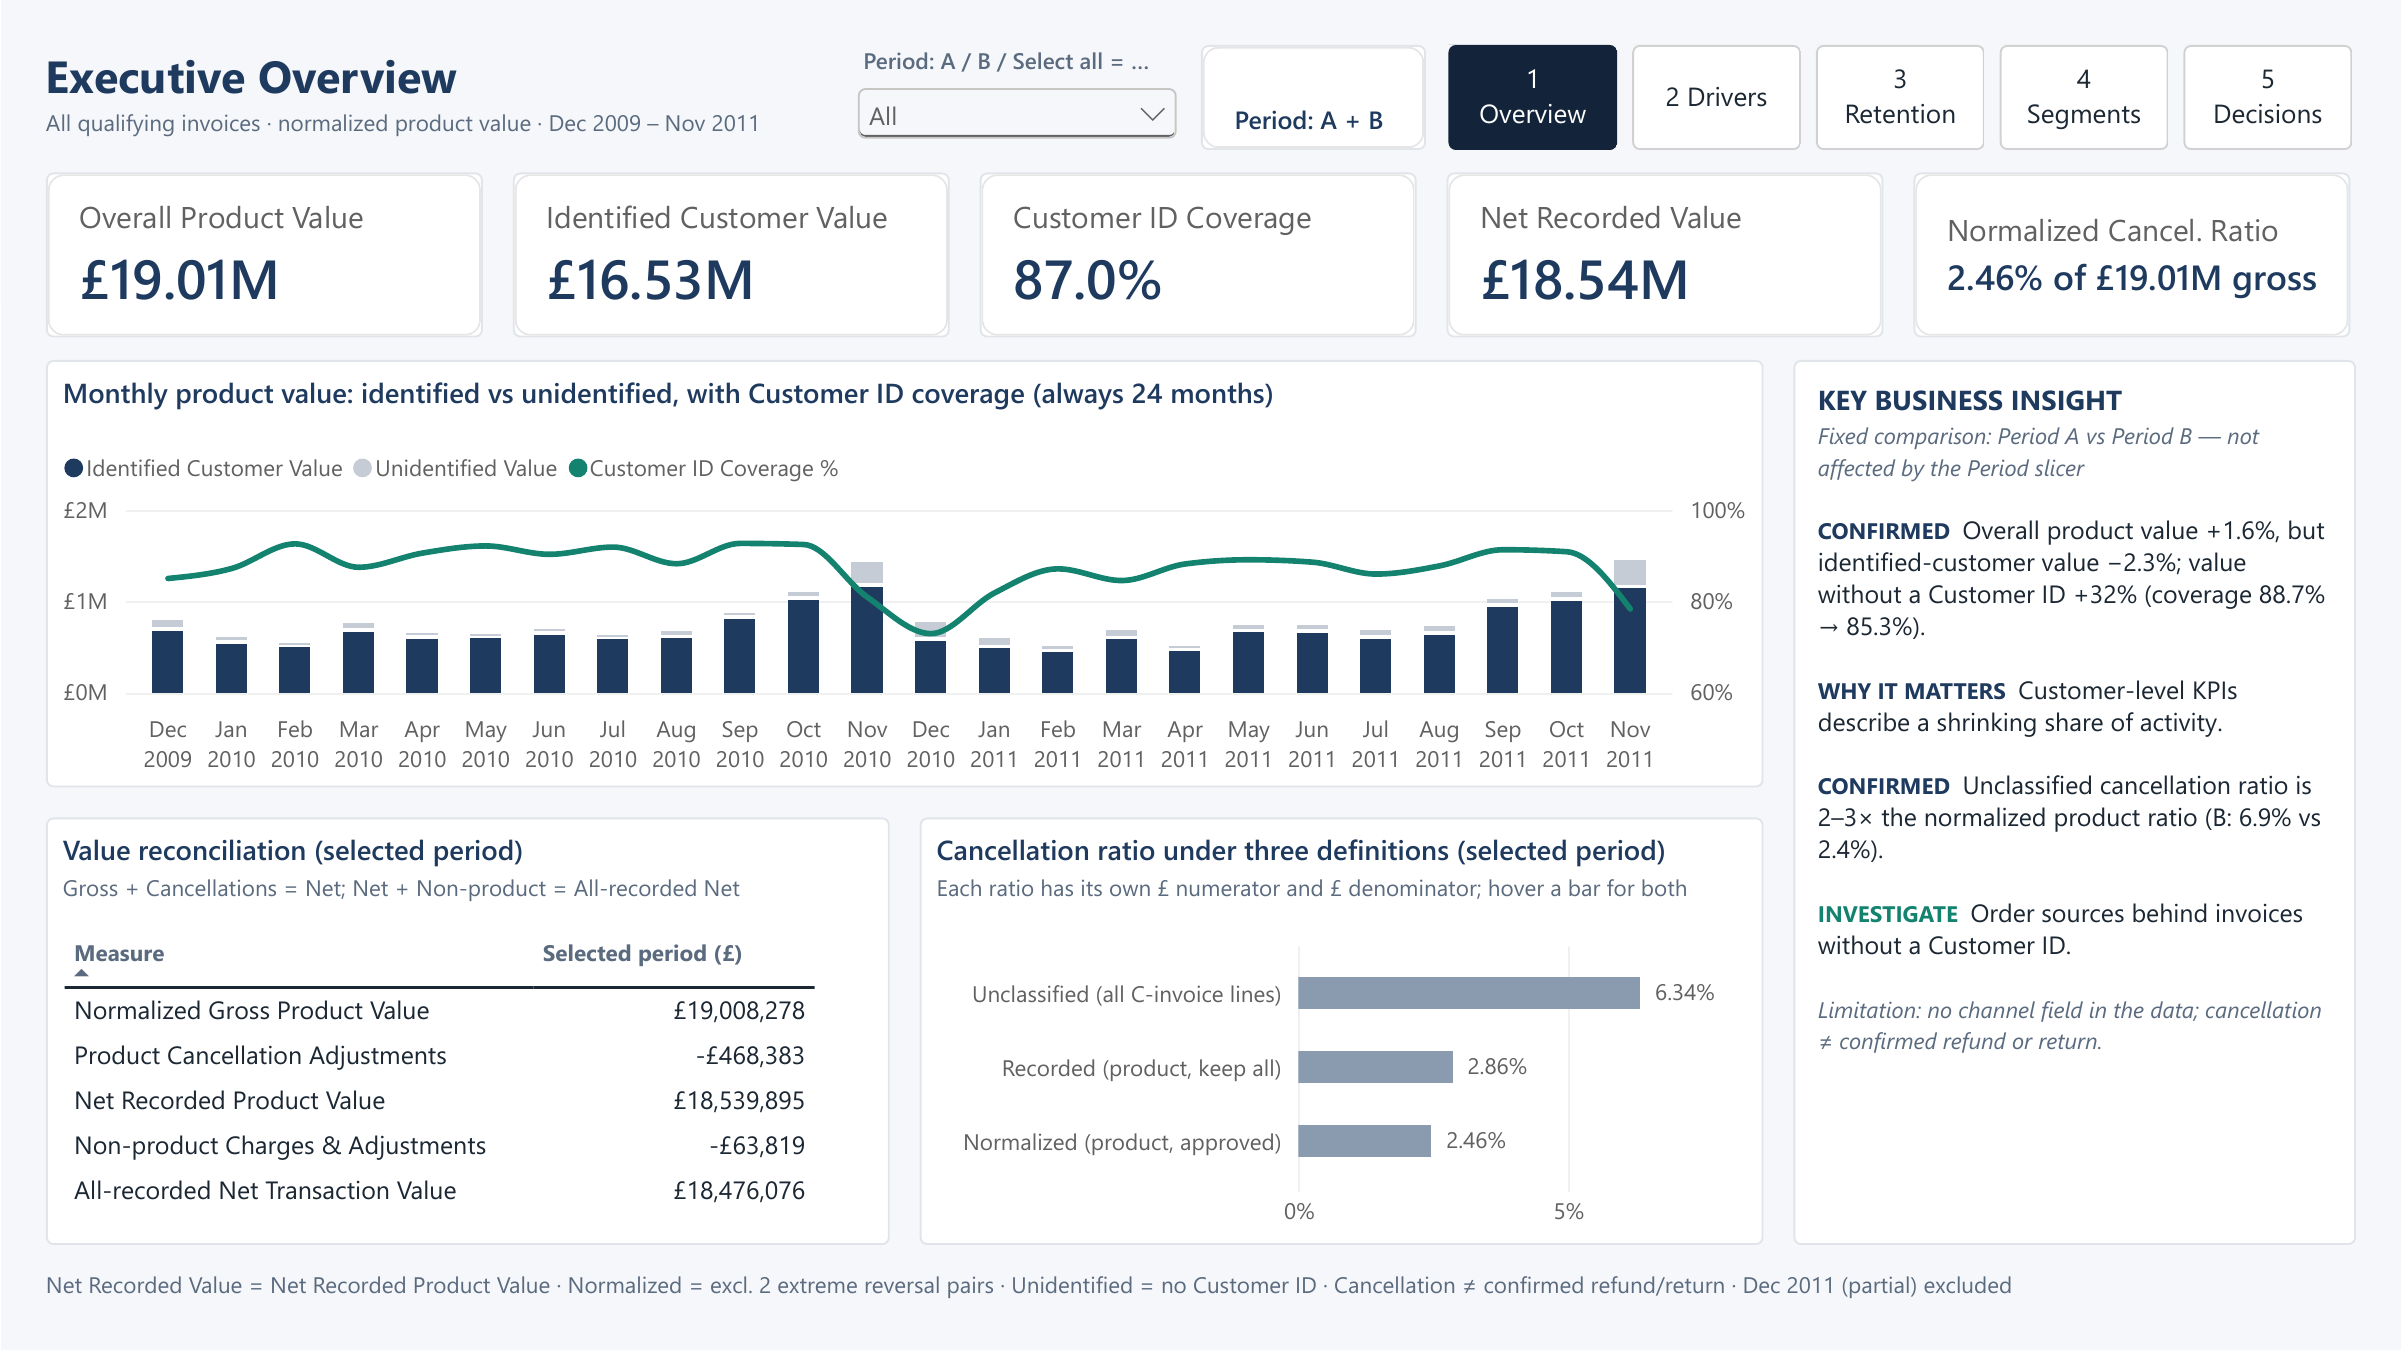

What the dashboard file says about the page in this screenshot:
{"tool":"powerbi","page":{"name":"1 Overview","canvas":[1280,720],"ordinal":0},"visuals":[{"type":"textbox","box":[24,24,420,56],"z":10},{"type":"slicer","fields":{"Values":["dim_month.period"]},"box":[452,24,180,56],"z":20},{"type":"cardVisual","fields":{"Data":["_Measures.Selected Period Label"]},"box":[640,24,120,56],"z":21},{"type":"pageNavigator","box":[772,24,484,56],"z":22},{"type":"cardVisual","fields":{"Data":["_Measures.Card Overall Product Value"]},"box":[24,92,233,88],"z":30},{"type":"cardVisual","fields":{"Data":["_Measures.Card Identified Customer Value"]},"box":[273,92,233,88],"z":31},{"type":"cardVisual","fields":{"Data":["_Measures.Customer ID Coverage %"]},"box":[522,92,233,88],"z":32},{"type":"cardVisual","fields":{"Data":["_Measures.Card Net Recorded Product Value"]},"box":[771,92,233,88],"z":33},{"type":"cardVisual","fields":{"Data":["_Measures.Card Normalized Ratio with Base"]},"box":[1020,92,233,88],"z":34},{"type":"lineStackedColumnComboChart","title":"Monthly product value: identified vs unidentified, with Customer ID coverage (always 24 months)","fields":{"Category":["dim_month.month_label"],"Y":["_Measures.Identified Customer Value","_Measures.Unidentified Value"],"Y2":["_Measures.Customer ID Coverage %"]},"box":[24,192,916,228],"z":40},{"type":"tableEx","title":"Value reconciliation (selected period)","fields":{"Values":["value_reconciliation_line.line","_Measures.Reconciliation Value"]},"box":[24,436,450,228],"z":41},{"type":"clusteredBarChart","title":"Cancellation ratio under three definitions (selected period)","fields":{"Category":["ratio_definition.definition"],"Y":["_Measures.Ratio by Definition"]},"box":[490,436,450,228],"z":42},{"type":"textbox","box":[956,192,300,472],"z":50},{"type":"textbox","box":[24,676,1232,20],"z":60}]}

Visuals, with their boxes in screenshot pixels (x1, y1, x2, y2), scaled from the page's 1280x720 canvas onto the 2401x1350 screenshot:
textbox: x1=45 y1=45 x2=833 y2=150
slicer - dim_month.period: x1=848 y1=45 x2=1185 y2=150
cardVisual - _Measures.Selected Period Label: x1=1200 y1=45 x2=1426 y2=150
pageNavigator: x1=1448 y1=45 x2=2356 y2=150
cardVisual - _Measures.Card Overall Product Value: x1=45 y1=172 x2=482 y2=338
cardVisual - _Measures.Card Identified Customer Value: x1=512 y1=172 x2=949 y2=338
cardVisual - _Measures.Customer ID Coverage %: x1=979 y1=172 x2=1416 y2=338
cardVisual - _Measures.Card Net Recorded Product Value: x1=1446 y1=172 x2=1883 y2=338
cardVisual - _Measures.Card Normalized Ratio with Base: x1=1913 y1=172 x2=2350 y2=338
"Monthly product value: identified vs unidentified, with Customer ID coverage (always 24 months)" lineStackedColumnComboChart: x1=45 y1=360 x2=1763 y2=788
"Value reconciliation (selected period)" tableEx: x1=45 y1=818 x2=889 y2=1245
"Cancellation ratio under three definitions (selected period)" clusteredBarChart: x1=919 y1=818 x2=1763 y2=1245
textbox: x1=1793 y1=360 x2=2356 y2=1245
textbox: x1=45 y1=1268 x2=2356 y2=1305
